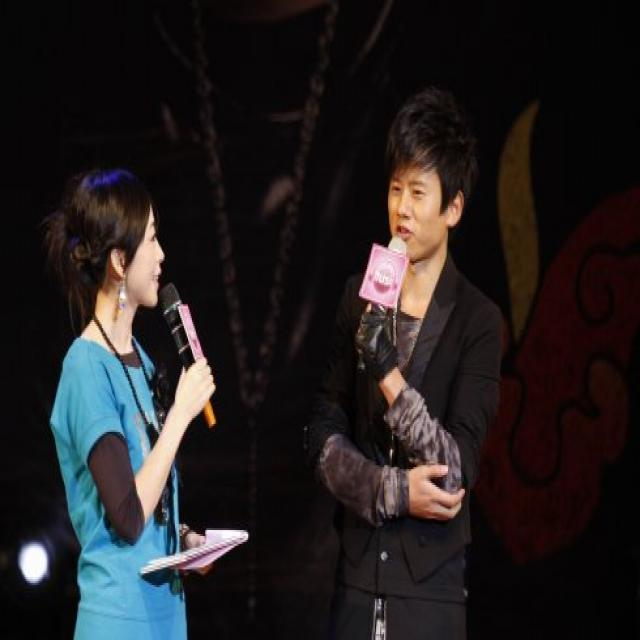nomask: (383, 161, 445, 255), (113, 207, 164, 303)
